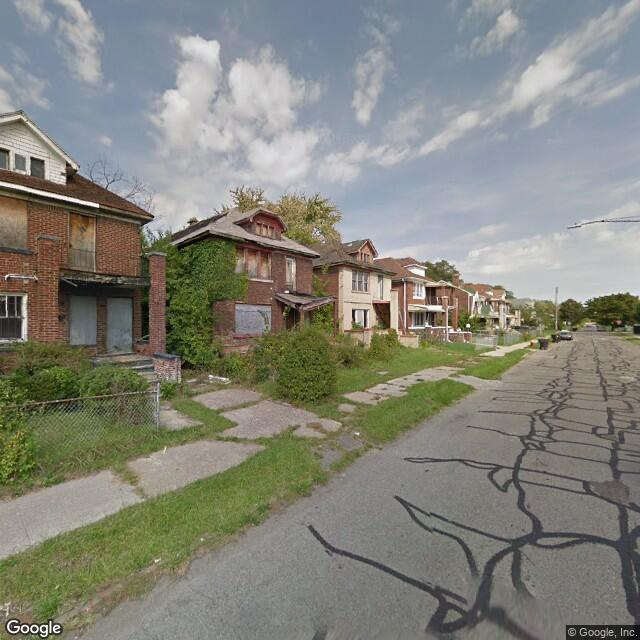litter: (160, 444, 172, 454), (152, 556, 163, 564), (353, 429, 361, 437)
